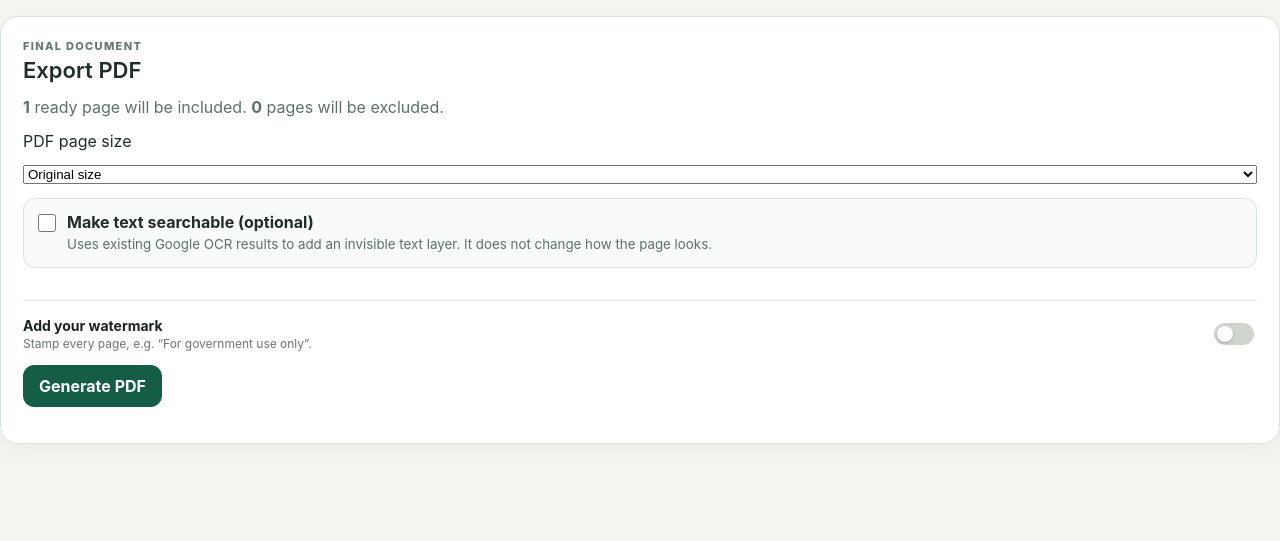
Test case: ExportStatusComponent › sends A4 when chosen and explains fitting before export
This screenshot has width=1280, height=541.
Select "A4 paper" in the dropdown labelled "PDF page size": (640, 174) left=23, top=165, right=1257, bottom=184
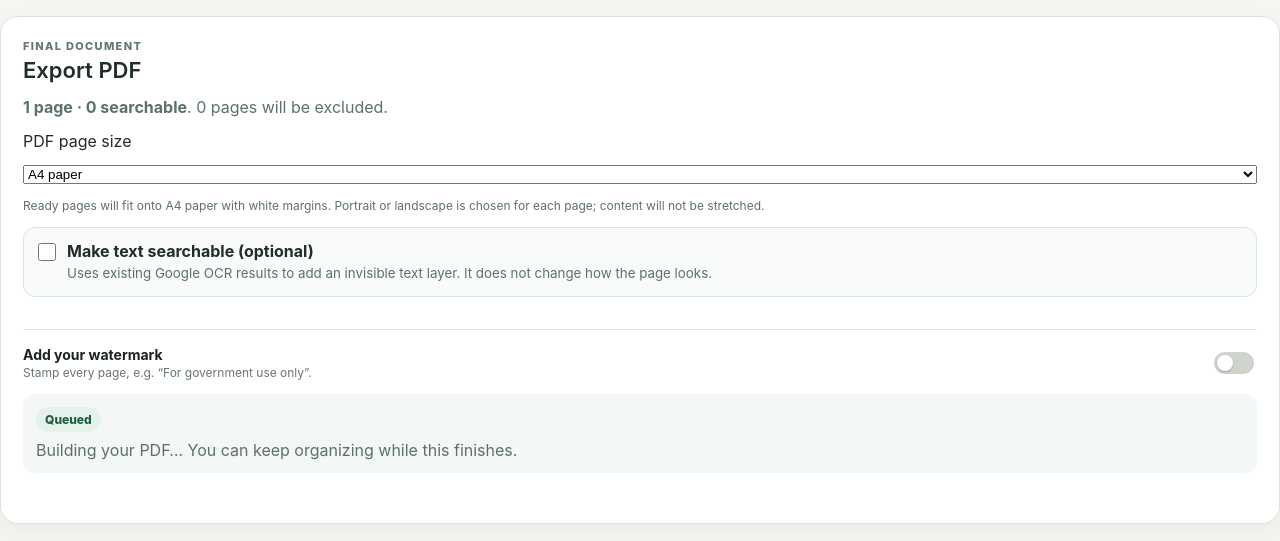
Check: the text "white margins" is shown, box left=23, top=198, right=764, bottom=213
